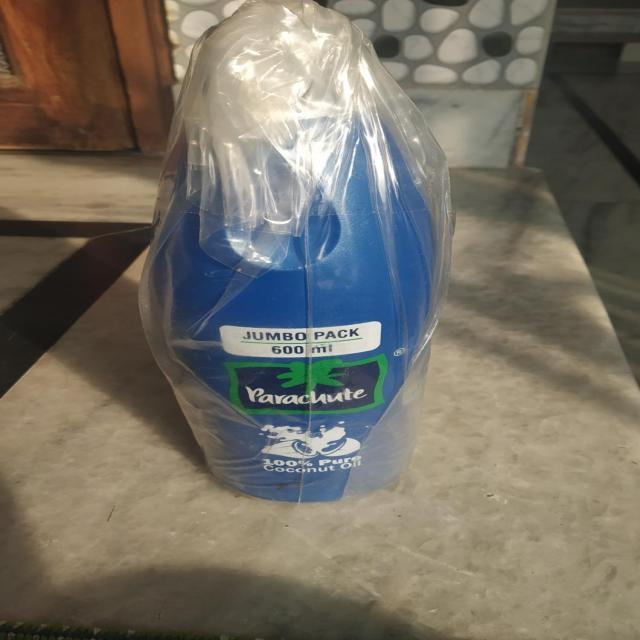parachute_oil: (137, 1, 459, 514)
